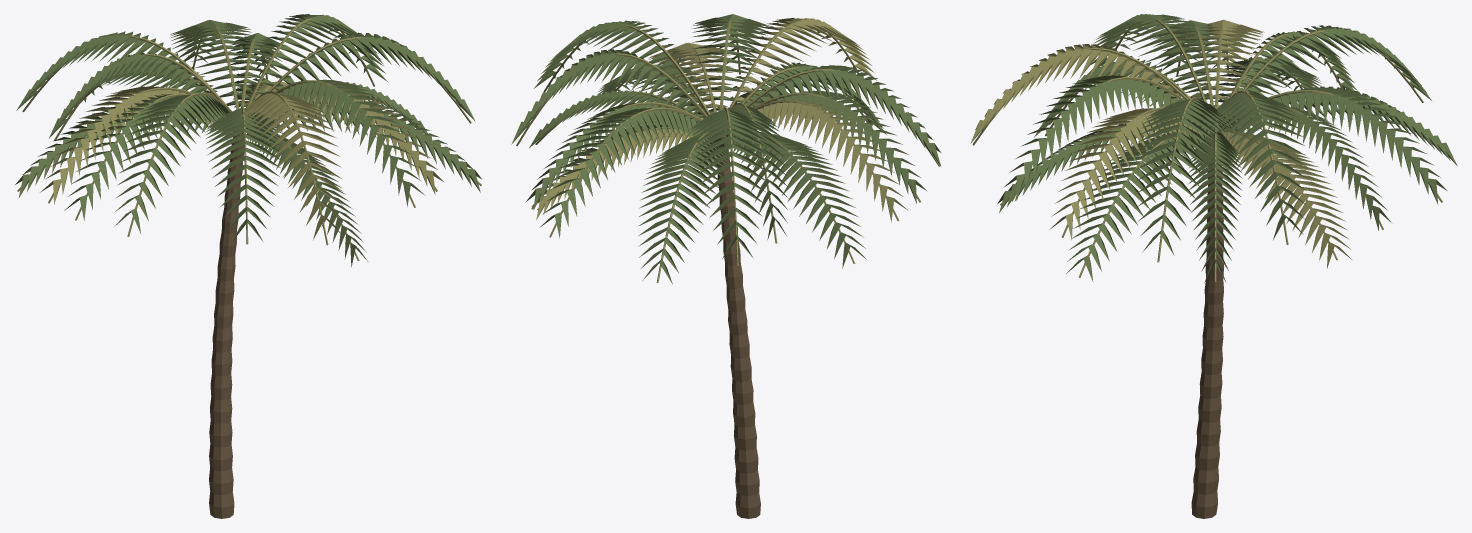
The model's file is palm.glb.
3 renders of one model, left to right at view 1: azimuth 30°, elevation 25°; view 2: azimuth 150°, elevation 25°; view 3: azimuth 270°, elevation 25°, orthographic. The views are drawn at different scales.
Visible parts, largest first — view 1: palm_leaf, palm_dryleaf, palm_wood; view 2: palm_leaf, palm_dryleaf, palm_wood; view 3: palm_leaf, palm_dryleaf, palm_wood.
Boxes of the visible parts, x1,y1,x2,y2 form: palm_leaf: (15,14,481,267); palm_dryleaf: (17,18,481,261); palm_wood: (209,129,246,518); palm_leaf: (511,14,941,284); palm_dryleaf: (516,18,940,282); palm_wood: (716,136,760,518); palm_leaf: (997,14,1457,283); palm_dryleaf: (970,18,1442,281); palm_wood: (1191,131,1223,518).
Size of the model in its own units: 11.95 by 13.09 by 12.26.
